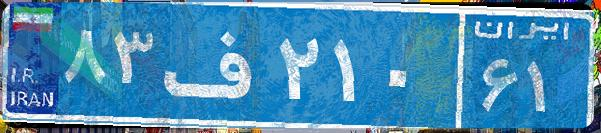0: (385, 28, 445, 110)
1: (330, 28, 385, 110), (525, 38, 570, 115)
2: (273, 28, 330, 110)
3: (110, 28, 158, 105)
6: (475, 38, 525, 113)
8: (57, 26, 110, 107)
ف: (158, 15, 273, 115)
